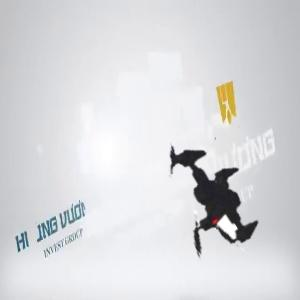drone: (115, 112, 295, 292)
